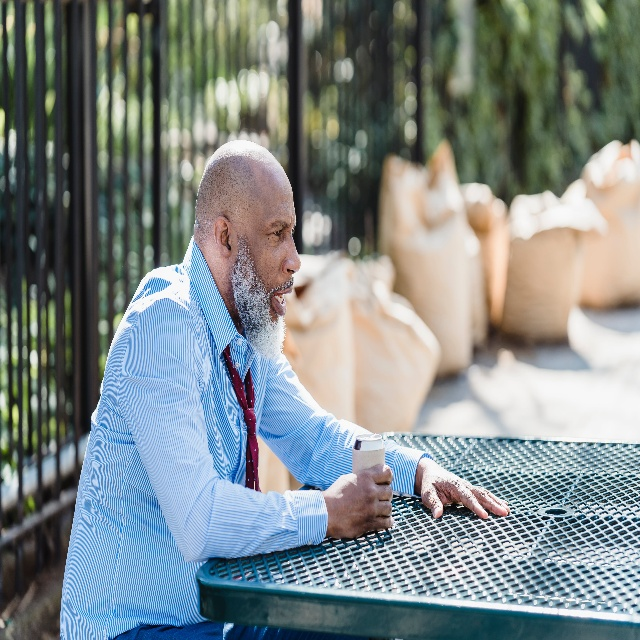Sin_guantes: (419, 462, 510, 521), (329, 474, 393, 532)
